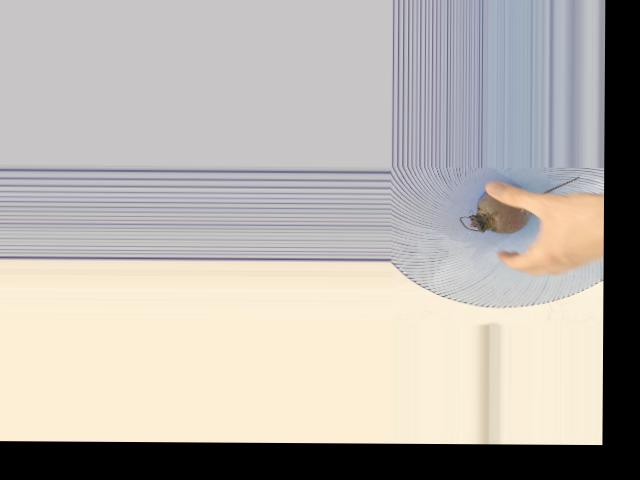beet: (459, 175, 579, 234)
